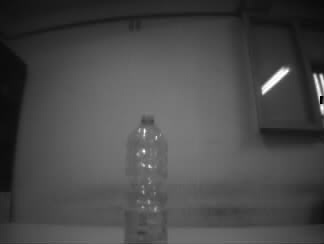Bottle: (122, 113, 170, 244)
